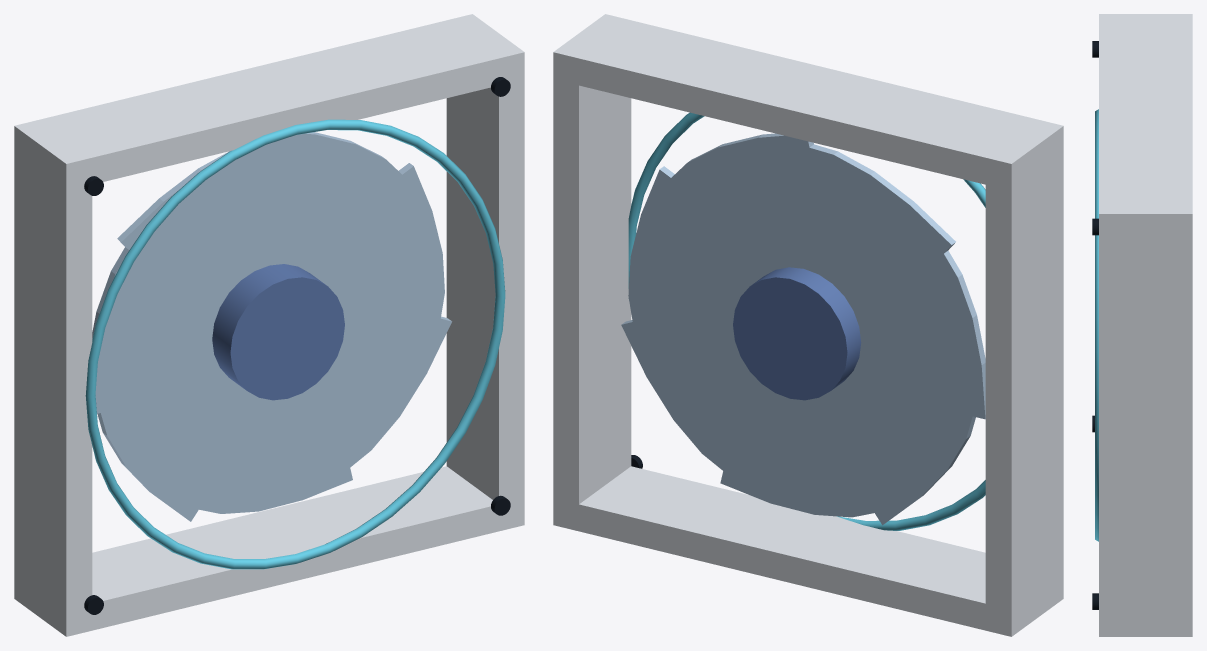
Rendered from retail-lian-li-uni-fan-tl-140-lcd-reverse-blade-wireless-white.glb.
3 renders of one model, left to right at view 1: azimuth 30°, elevation 25°; view 2: azimuth 150°, elevation 25°; view 3: azimuth 270°, elevation 25°, orthographic. The views are drawn at different scales.
Visible parts, largest first — view 1: Frame edge (×4), Blade (×7), Intake rim, Motor hub; view 2: Frame edge (×4), Blade (×7), Motor hub, Intake rim; view 3: Frame edge (×3), Intake rim.
Part boxes in pixels (<box>): Frame edge (×4): <box>14,14,524,636</box>; Blade (×7): <box>92,132,451,521</box>; Intake rim: <box>85,119,505,569</box>; Motor hub: <box>212,264,344,400</box>; Frame edge (×4): <box>553,14,1063,636</box>; Blade (×7): <box>621,133,985,525</box>; Motor hub: <box>733,267,861,400</box>; Intake rim: <box>628,112,985,530</box>; Frame edge (×3): <box>1099,14,1192,636</box>; Intake rim: <box>1095,109,1098,541</box>.
Size of the model in its own units: 0.142 by 0.14 by 0.03.
